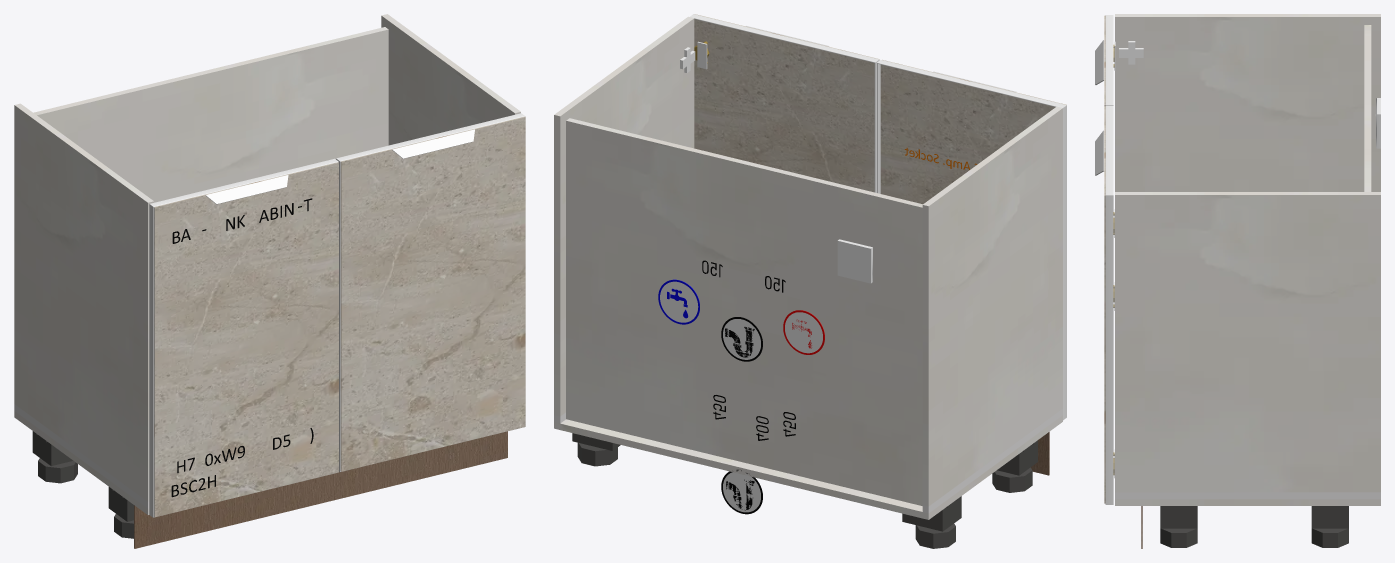
File: BSC2HS_EH (H720xW900xD560).glb
3 renders of one model, left to right at view 1: azimuth 30°, elevation 25°; view 2: azimuth 150°, elevation 25°; view 3: azimuth 270°, elevation 25°, orthographic.
Size of what is drawn, in the model's own units: 0.9 by 0.82 by 0.6.
16 materials, 3 textured.
